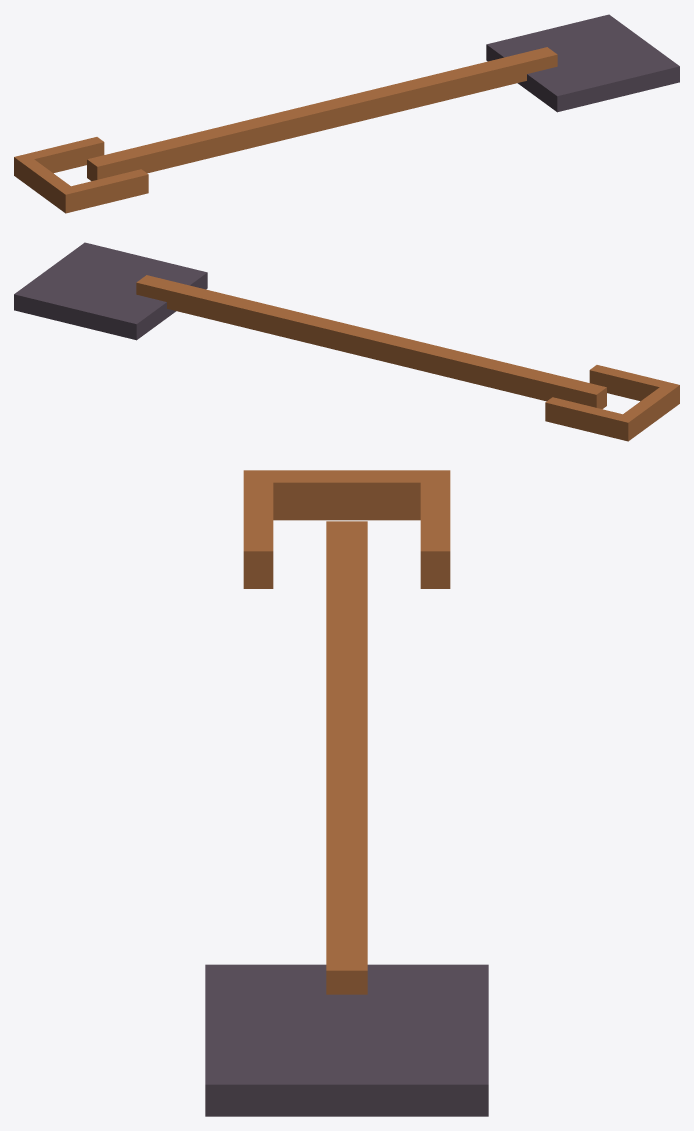
The picture shows the model from 3 angles, top to bottom: view 1: azimuth 30°, elevation 25°; view 2: azimuth 150°, elevation 25°; view 3: azimuth 270°, elevation 25°; orthographic projection. The views are drawn at different scales.
Parts seen in each view (by area): view 1: body; view 2: body; view 3: body.
Boxes of the visible parts, bbox=[...] form: body: bbox=[14, 14, 679, 213]; body: bbox=[14, 242, 679, 441]; body: bbox=[205, 470, 488, 1116].
Size of the model in its own units: 1.18 by 0.0525 by 0.24.
